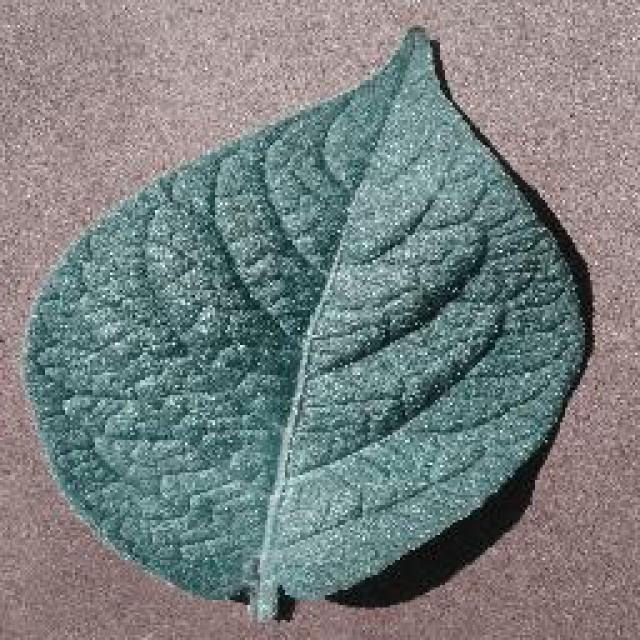Potato___healthy: (20, 23, 591, 624)
